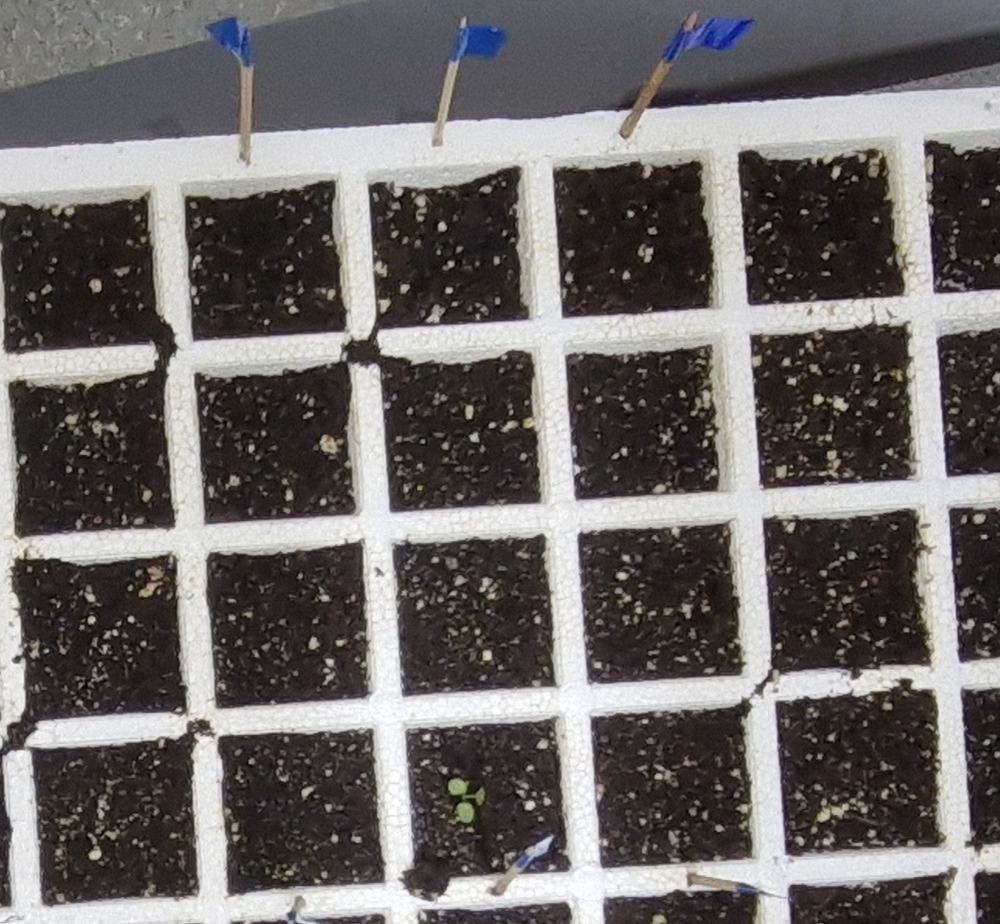Folha: (456, 802, 474, 823), (448, 779, 467, 794), (475, 788, 485, 804)
Germinacao: (449, 779, 485, 823)
